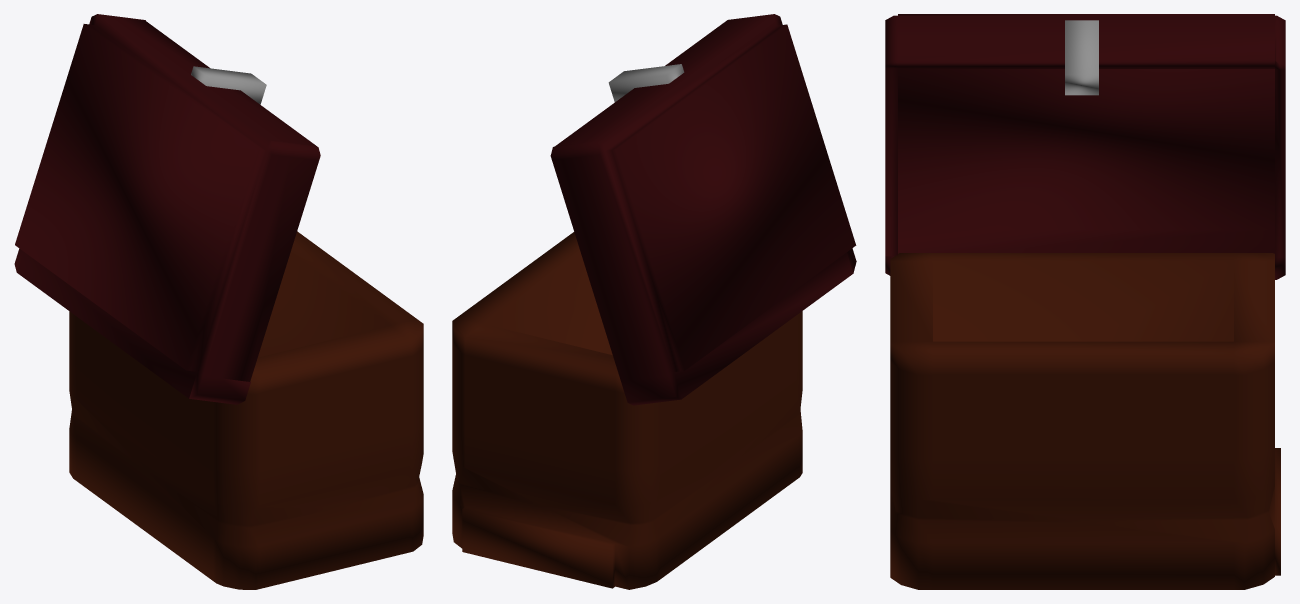
3 views of the same model, side by side, from view 1: azimuth 30°, elevation 25°; view 2: azimuth 150°, elevation 25°; view 3: azimuth 270°, elevation 25° (orthographic). The views are drawn at different scales.
Visible parts, largest first — view 1: Cube, 立方体.001; view 2: Cube, 立方体.001; view 3: Cube, 立方体.001.
Part boxes in pixels (left/top/right/bottom): Cube: left=69, top=231, right=423, bottom=589; 立方体.001: left=14, top=14, right=320, bottom=404; Cube: left=452, top=232, right=802, bottom=589; 立方体.001: left=550, top=14, right=856, bottom=405; Cube: left=890, top=253, right=1280, bottom=589; 立方体.001: left=885, top=14, right=1285, bottom=279.
Size of what is drawn, in the model's own units: 242 by 419 by 310.
